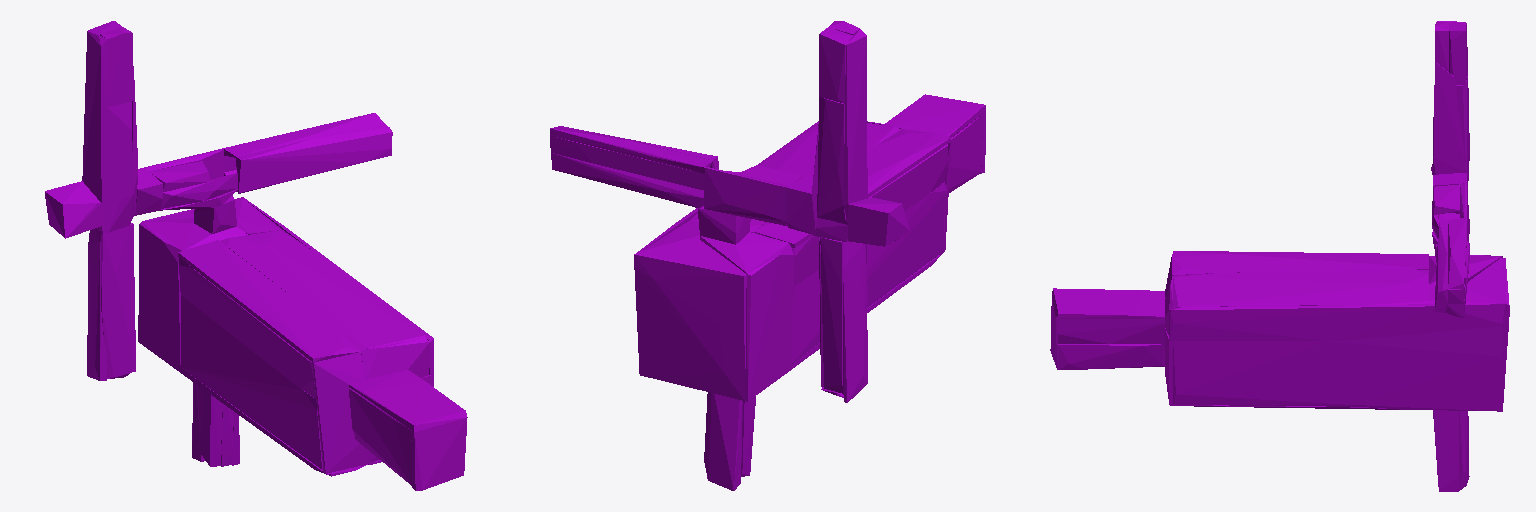
robot.urdf — blob748:
<robot name="blob748">
  <link name="random_obj_748">
    <contact>
      <lateral_friction value="1.0"/>
      <rolling_friction value="0.0"/>
      <inertia_scaling value="3.0"/>
      <contact_cfm value="0.0"/>
      <contact_erp value="1.0"/>
    </contact>
    <inertial>
      <origin rpy="0 0 0" xyz="0 0 0"/>
      <mass value="0.1"/>
      <inertia ixx="1" ixy="0" ixz="0" iyy="1" iyz="0" izz="0"/>
    </inertial>
    <visual>
      <origin rpy="0 0 0" xyz="0 0 0"/>
      <geometry>
        <mesh filename="748.obj" scale="0.015 0.015 0.015"/>
      </geometry>
      <material name="blockmat">
        <color rgba="0.70 0.07 0.82 1"/>
      </material>
    </visual>
    <collision>
      <origin rpy="0 0 0" xyz="0 0 0"/>
      <geometry>
        <mesh filename="748.obj" scale="0.015 0.015 0.015"/>
      </geometry>
    </collision>
  </link>
</robot>

--- Render facts (derived) ---
Views: 3 orthographic renders of the robot side by side, from view 1: azimuth 30°, elevation 25°; view 2: azimuth 150°, elevation 25°; view 3: azimuth 270°, elevation 25°.
Robot: blob748 — 1 links, 0 joints (none); root link random_obj_748; default pose: all joints at 0.
Links seen in each view (by area): view 1: random_obj_748; view 2: random_obj_748; view 3: random_obj_748.
Boxes of the visible links, x1=… form: random_obj_748: x1=45, y1=21, x2=467, y2=490; random_obj_748: x1=550, y1=21, x2=985, y2=490; random_obj_748: x1=1050, y1=21, x2=1509, y2=491.
Bounding box of the posed robot: 0.0912 × 0.1221 × 0.1214 m (x, y, z).
1 mesh visuals loaded from 1 distinct referenced files (1 OBJ).